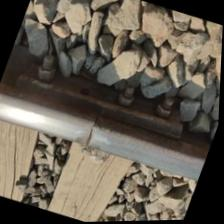person: (54, 93, 133, 169)
